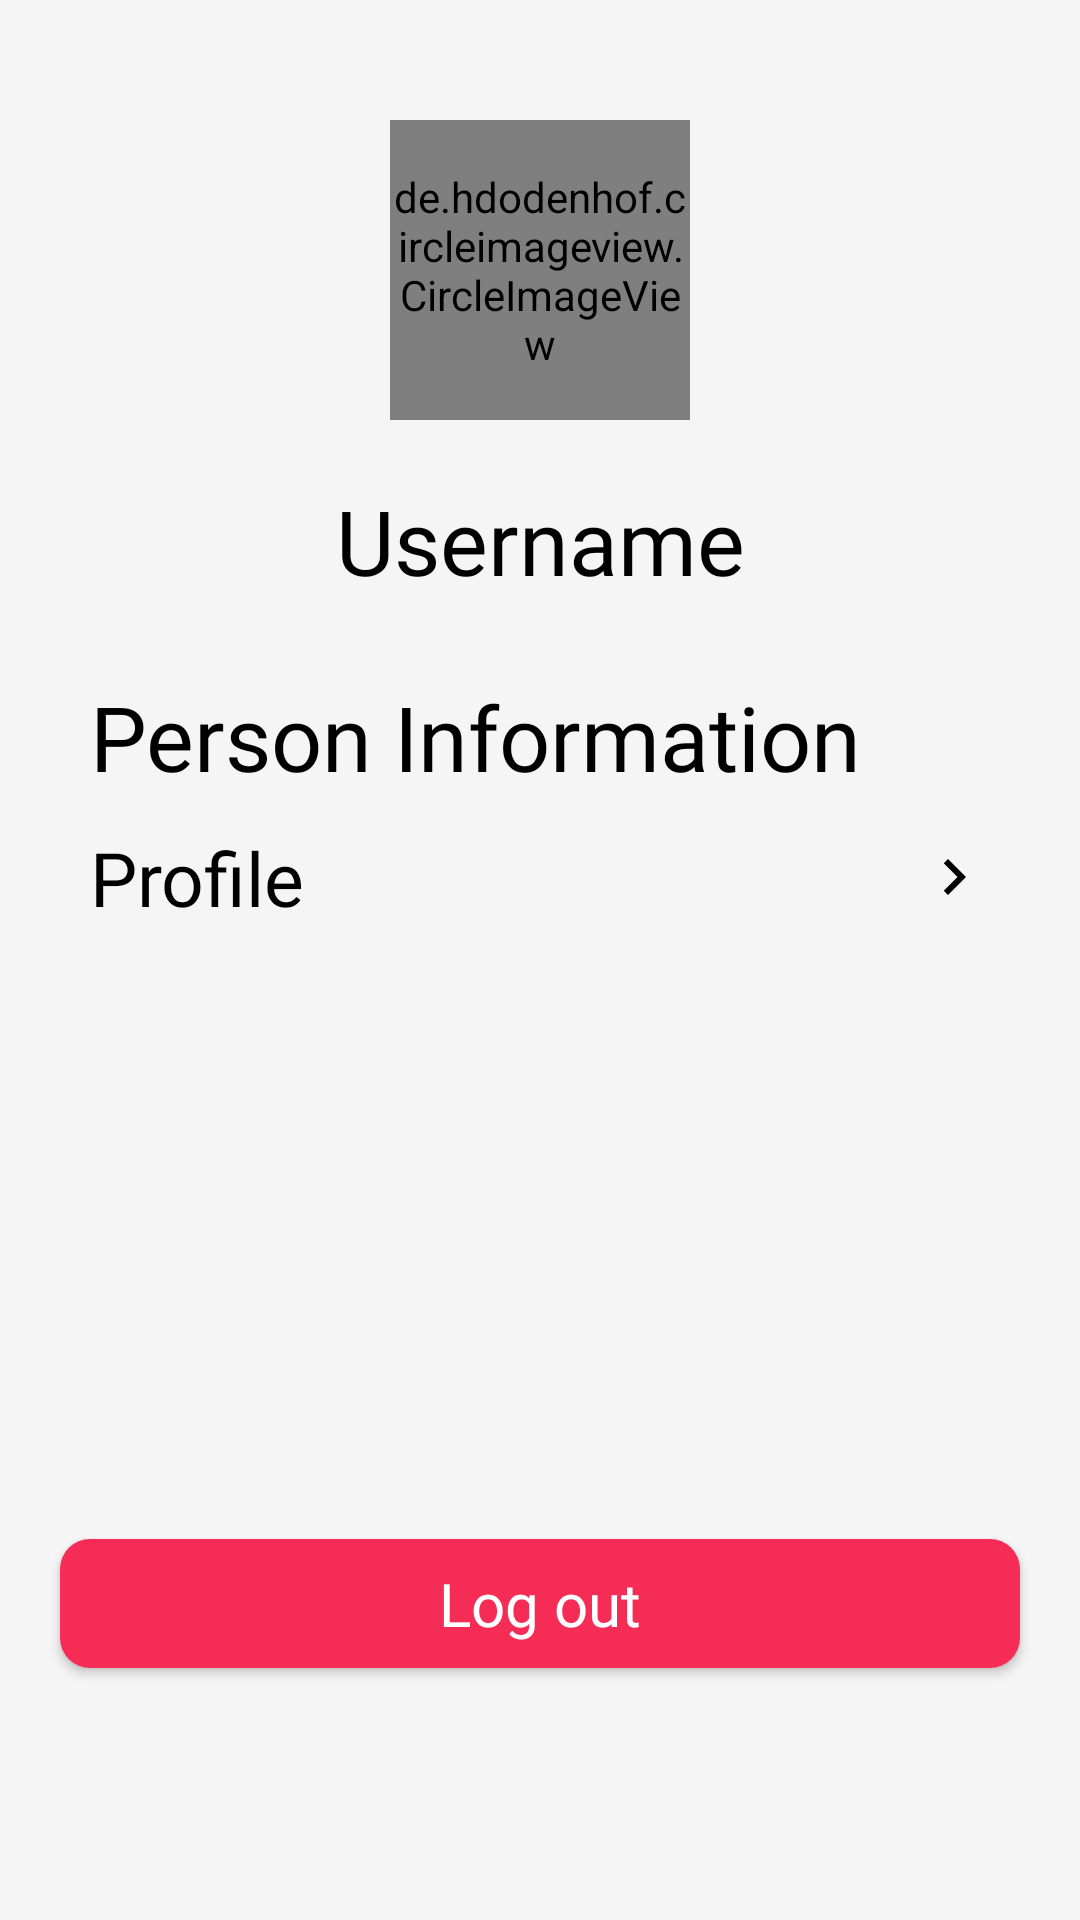

Screen size 1080px x 1920px. Icon name, then its box in pixels as {"x1": x1, "y1": y1, "x2": x2, "y2": y2}:
navigate next: {"x1": 944, "y1": 859, "x2": 966, "y2": 895}
